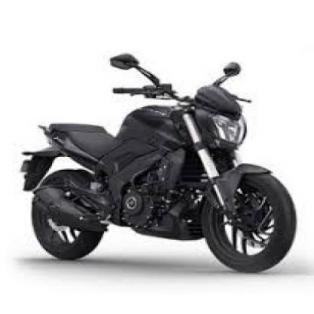Motocicleta: (16, 40, 303, 276)
